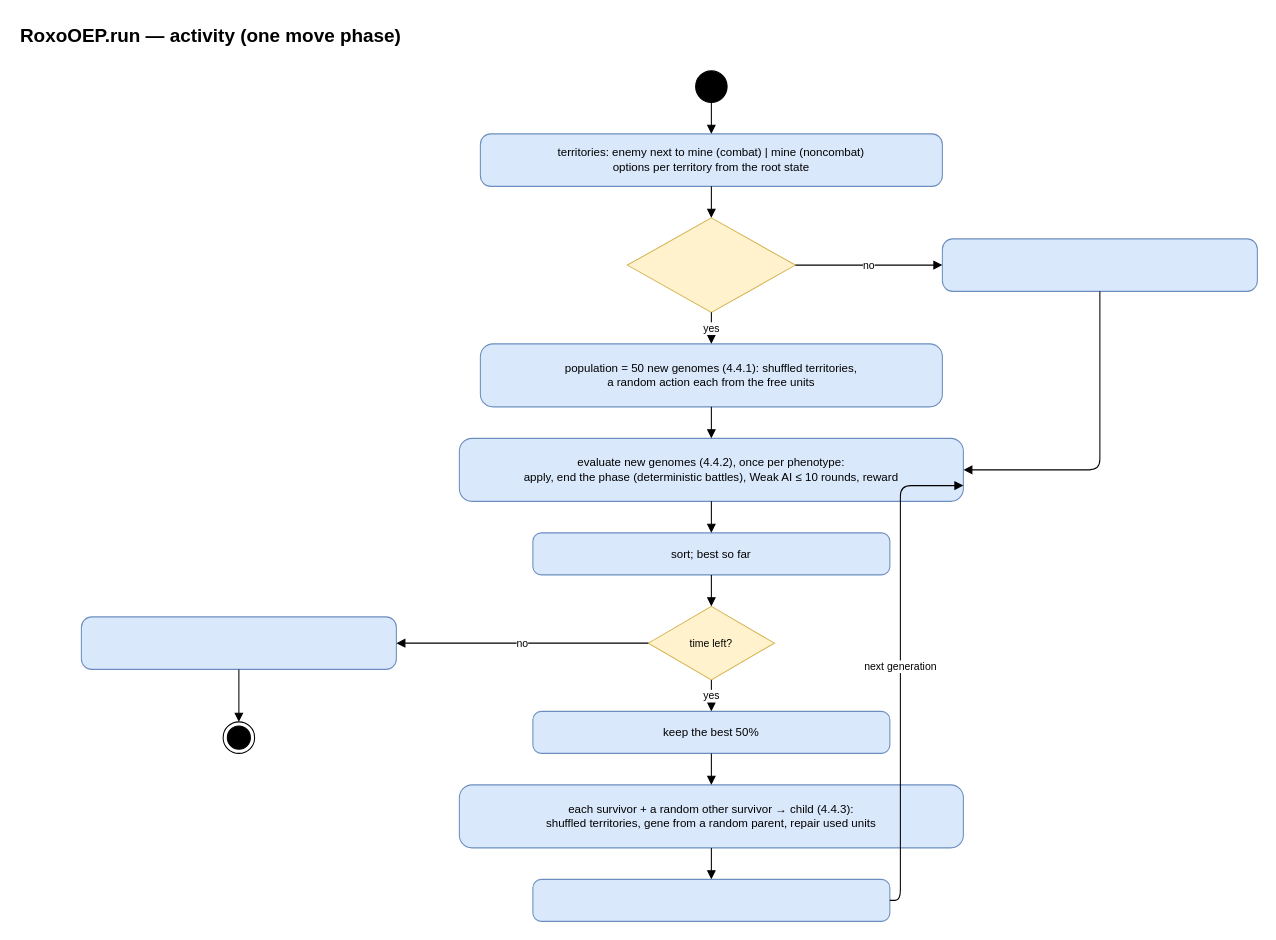
Some shapes in this 1276 by 940 pixel diagram are drawn without their labels. Each missing label, with the centre of its shape:
"any territory with a choice?" goes at point (710, 264).
"mutation (4.4.4): p = 0.1, one gene → random action" goes at point (711, 899).
"population = 1 genome (all forced)" goes at point (1099, 264).
"return the best genome's actions" goes at point (238, 642).
